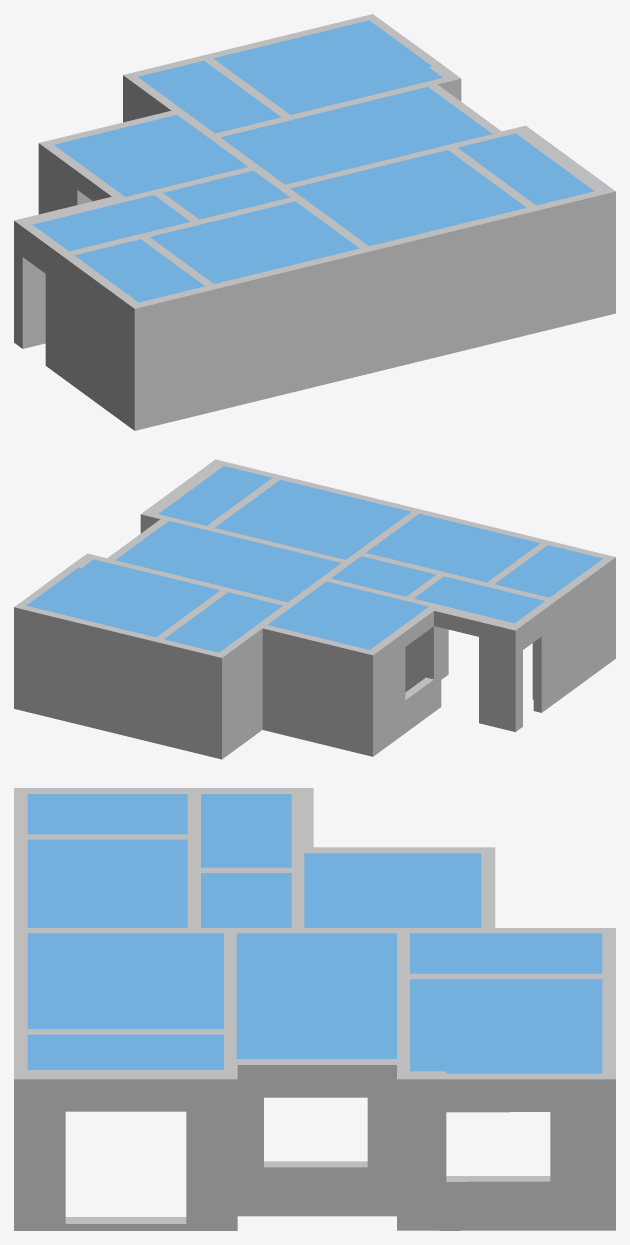
The model's file is output_boolean_regions_no_wall_penetration.fbx.
3 views of the same model, one above another, from view 1: azimuth 30°, elevation 25°; view 2: azimuth 150°, elevation 25°; view 3: azimuth 270°, elevation 25° (orthographic). The views are drawn at different scales.
Visible parts, largest first — view 1: 承重墙_围合002, 承重墙_围合001, 承重墙_围合000, 布尔吊顶块006, 布尔吊顶块002, 布尔吊顶块009, 布尔吊顶块001, 布尔吊顶块007, 布尔吊顶块008, 布尔吊顶块003, 布尔吊顶块004, 布尔吊顶块000 (+17 smaller); view 2: 承重墙_围合011, 承重墙_围合009, 布尔吊顶块006, 承重墙_围合000, 布尔吊顶块002, 布尔吊顶块009, 承重墙_围合010, 承重墙_围合008, 布尔吊顶块001, 布尔吊顶块007, 承重墙_围合012, 布尔吊顶块008 (+22 smaller); view 3: 布尔吊顶块006, 布尔吊顶块002, 布尔吊顶块009, 布尔吊顶块001, 布尔吊顶块007, 承重墙_围合008, 承重墙_围合002, 承重墙_围合007, 布尔吊顶块008, 布尔吊顶块003, 布尔吊顶块004, 布尔吊顶块000 (+27 smaller).
Boxes of the visible parts, bbox=[...] form: 承重墙_围合002: bbox=[360, 176, 615, 374]; 承重墙_围合001: bbox=[159, 248, 365, 423]; 承重墙_围合000: bbox=[45, 241, 164, 430]; 布尔吊顶块006: bbox=[221, 87, 491, 184]; 布尔吊顶块002: bbox=[290, 150, 526, 246]; 布尔吊顶块009: bbox=[213, 20, 442, 114]; 布尔吊顶块001: bbox=[150, 201, 359, 283]; 布尔吊顶块007: bbox=[54, 115, 247, 196]; 布尔吊顶块008: bbox=[138, 60, 280, 133]; 布尔吊顶块003: bbox=[458, 133, 594, 205]; 布尔吊顶块004: bbox=[33, 195, 190, 251]; 布尔吊顶块000: bbox=[75, 239, 204, 302]; 承重墙_围合011: bbox=[262, 625, 405, 756]; 承重墙_围合009: bbox=[83, 621, 198, 752]; 布尔吊顶块006: bbox=[115, 521, 340, 602]; 承重墙_围合000: bbox=[532, 551, 615, 712]; 布尔吊顶块002: bbox=[215, 480, 411, 559]; 布尔吊顶块009: bbox=[26, 559, 219, 637]; 承重墙_围合010: bbox=[194, 602, 294, 759]; 承重墙_围合008: bbox=[14, 591, 87, 725]; 布尔吊顶块001: bbox=[366, 513, 540, 582]; 布尔吊顶块007: bbox=[267, 581, 428, 649]; 承重墙_围合012: bbox=[479, 616, 522, 731]; 布尔吊顶块008: bbox=[164, 592, 282, 652]; 布尔吊顶块006: bbox=[236, 933, 396, 1058]; 布尔吊顶块002: bbox=[27, 933, 223, 1028]; 布尔吊顶块009: bbox=[410, 979, 602, 1073]; 布尔吊顶块001: bbox=[27, 839, 187, 927]; 布尔吊顶块007: bbox=[304, 853, 481, 927]; 承重墙_围合008: bbox=[550, 1029, 615, 1230]; 承重墙_围合002: bbox=[14, 928, 65, 1230]; 承重墙_围合007: bbox=[397, 1015, 446, 1230]; 布尔吊顶块008: bbox=[410, 933, 602, 973]; 布尔吊顶块003: bbox=[27, 1034, 223, 1069]; 布尔吊顶块004: bbox=[201, 794, 291, 867]; 布尔吊顶块000: bbox=[27, 794, 187, 834].
Size of the model in its own units: 11.99 by 2.91 by 10.47.
